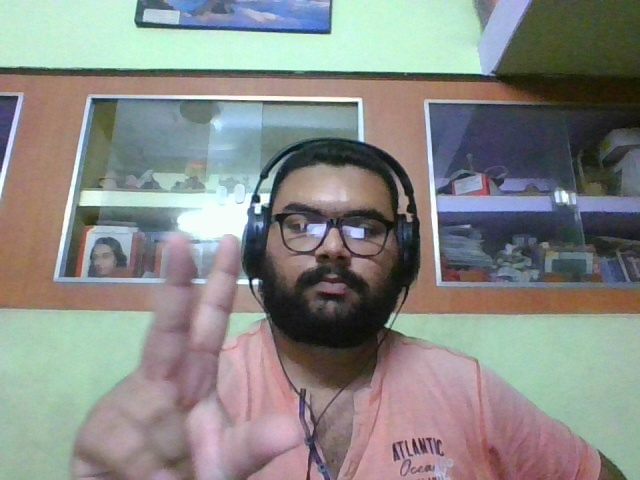iloveyou: (80, 230, 301, 475)
